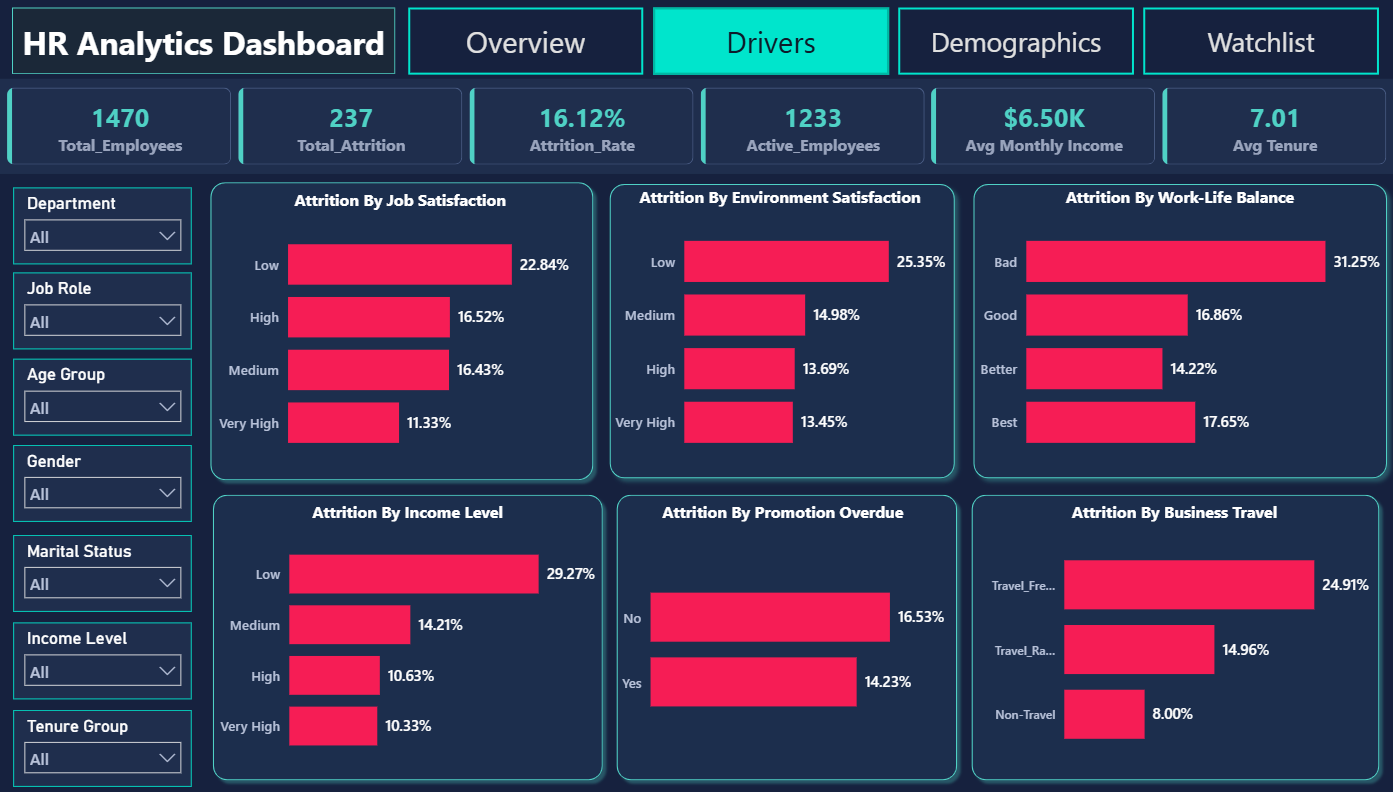

The page's visual inventory and layout, read from the dashboard file:
{"tool":"powerbi","page":{"name":"Drivers","canvas":[1400,800],"ordinal":1},"visuals":[{"type":"shape","box":[604.1,175.3,363,312.3],"z":0},{"type":"shape","box":[206.8,175.3,397.3,312.3],"z":1000},{"type":"shape","box":[967.1,175.3,431.5,312.3],"z":2000},{"type":"clusteredBarChart","title":"Attrition By Job Satisfaction","fields":{"Y":["public hr_attrition.Attrition_Rate"],"Category":["public hr_attrition.job_satisfaction"]},"box":[216.4,189,374,282.2],"z":3000},{"type":"shape","box":[15.3,6.9,383.3,66.7],"z":4000},{"type":"textbox","box":[15.3,16.7,383.3,56.9],"z":5000},{"type":"cardVisual","fields":{"Data":["public hr_attrition.Total_Employees","public hr_attrition.Total_Attrition","public hr_attrition.Attrition_Rate","public hr_attrition.Active_Employees","public hr_attrition.Avg Monthly Income","public hr_attrition.Avg Tenure","public hr_attrition.Active_Employees"]},"box":[1.4,79.2,1398.6,95.8],"z":6000},{"type":"clusteredBarChart","title":"Attrition By Environment Satisfaction","fields":{"Y":["public hr_attrition.Attrition_Rate"],"Category":["public hr_attrition.environment_satisfaction"]},"box":[612.3,184.9,341.1,286.3],"z":7000},{"type":"clusteredBarChart","title":"Attrition By Work-Life Balance","fields":{"Y":["public hr_attrition.Attrition_Rate"],"Category":["public hr_attrition.Work Life Balance"]},"box":[978.1,184.9,411,286.3],"z":8000},{"type":"shape","box":[208.2,487.7,404.1,300],"z":9000},{"type":"shape","box":[612.3,487.7,354.8,300],"z":10000},{"type":"shape","box":[967.1,487.7,421.9,300],"z":11000},{"type":"clusteredBarChart","title":"Attrition By Income Level","fields":{"Y":["public hr_attrition.Attrition_Rate"],"Category":["public hr_attrition.income_level"]},"box":[217.8,500,386.3,272.6],"z":12000},{"type":"clusteredBarChart","title":"Attrition By Promotion Overdue","fields":{"Y":["public hr_attrition.Attrition_Rate"],"Category":["public hr_attrition.Promotion Overdue"]},"box":[619.2,500,334.2,272.6],"z":13000},{"type":"clusteredBarChart","title":"Attrition By Business Travel","fields":{"Y":["public hr_attrition.Attrition_Rate"],"Category":["public hr_attrition.business_travel"]},"box":[978.1,500,400,272.6],"z":14000},{"type":"slicer","fields":{"Values":["public hr_attrition.department"]},"box":[15.7,187.1,178.6,77.1],"z":15000},{"type":"slicer","fields":{"Values":["public hr_attrition.job_role"]},"box":[15.7,273,178.6,77.1],"z":16000},{"type":"slicer","fields":{"Values":["public hr_attrition.age_group"]},"box":[15.7,359,178.6,77.1],"z":17000},{"type":"slicer","fields":{"Values":["public hr_attrition.gender"]},"box":[15.7,445,178.6,77.1],"z":18000},{"type":"slicer","fields":{"Values":["public hr_attrition.marital_status"]},"box":[15.7,535,178.6,77.1],"z":19000},{"type":"slicer","fields":{"Values":["public hr_attrition.income_level"]},"box":[15.7,623,178.6,77.1],"z":20000},{"type":"slicer","fields":{"Values":["public hr_attrition.tenure_group"]},"box":[15.7,710,178.6,77.1],"z":21000},{"type":"actionButton","box":[411,7.1,235,67.1],"z":22000},{"type":"actionButton","box":[656,7.1,235.7,67.1],"z":23000},{"type":"actionButton","box":[901,7.1,235.7,67.1],"z":24000},{"type":"actionButton","box":[1146,7.1,235.7,67.1],"z":25000}]}

Visuals, with their boxes in screenshot pixels (x1, y1, x2, y2), scaled from the page's 1400x800 canvas onto the 1393x792 screenshot:
shape: <bbox>601, 174, 962, 483</bbox>
shape: <bbox>206, 174, 601, 483</bbox>
shape: <bbox>962, 174, 1392, 483</bbox>
"Attrition By Job Satisfaction" clusteredBarChart: <bbox>215, 187, 587, 466</bbox>
shape: <bbox>15, 7, 397, 73</bbox>
textbox: <bbox>15, 17, 397, 73</bbox>
cardVisual - public hr_attrition.Total_Employees x public hr_attrition.Total_Attrition: <bbox>1, 78, 1392, 173</bbox>
"Attrition By Environment Satisfaction" clusteredBarChart: <bbox>609, 183, 949, 466</bbox>
"Attrition By Work-Life Balance" clusteredBarChart: <bbox>973, 183, 1382, 466</bbox>
shape: <bbox>207, 483, 609, 780</bbox>
shape: <bbox>609, 483, 962, 780</bbox>
shape: <bbox>962, 483, 1382, 780</bbox>
"Attrition By Income Level" clusteredBarChart: <bbox>217, 495, 601, 765</bbox>
"Attrition By Promotion Overdue" clusteredBarChart: <bbox>616, 495, 949, 765</bbox>
"Attrition By Business Travel" clusteredBarChart: <bbox>973, 495, 1371, 765</bbox>
slicer - public hr_attrition.department: <bbox>16, 185, 193, 262</bbox>
slicer - public hr_attrition.job_role: <bbox>16, 270, 193, 347</bbox>
slicer - public hr_attrition.age_group: <bbox>16, 355, 193, 432</bbox>
slicer - public hr_attrition.gender: <bbox>16, 441, 193, 517</bbox>
slicer - public hr_attrition.marital_status: <bbox>16, 530, 193, 606</bbox>
slicer - public hr_attrition.income_level: <bbox>16, 617, 193, 693</bbox>
slicer - public hr_attrition.tenure_group: <bbox>16, 703, 193, 779</bbox>
actionButton: <bbox>409, 7, 643, 73</bbox>
actionButton: <bbox>653, 7, 887, 73</bbox>
actionButton: <bbox>896, 7, 1131, 73</bbox>
actionButton: <bbox>1140, 7, 1375, 73</bbox>
